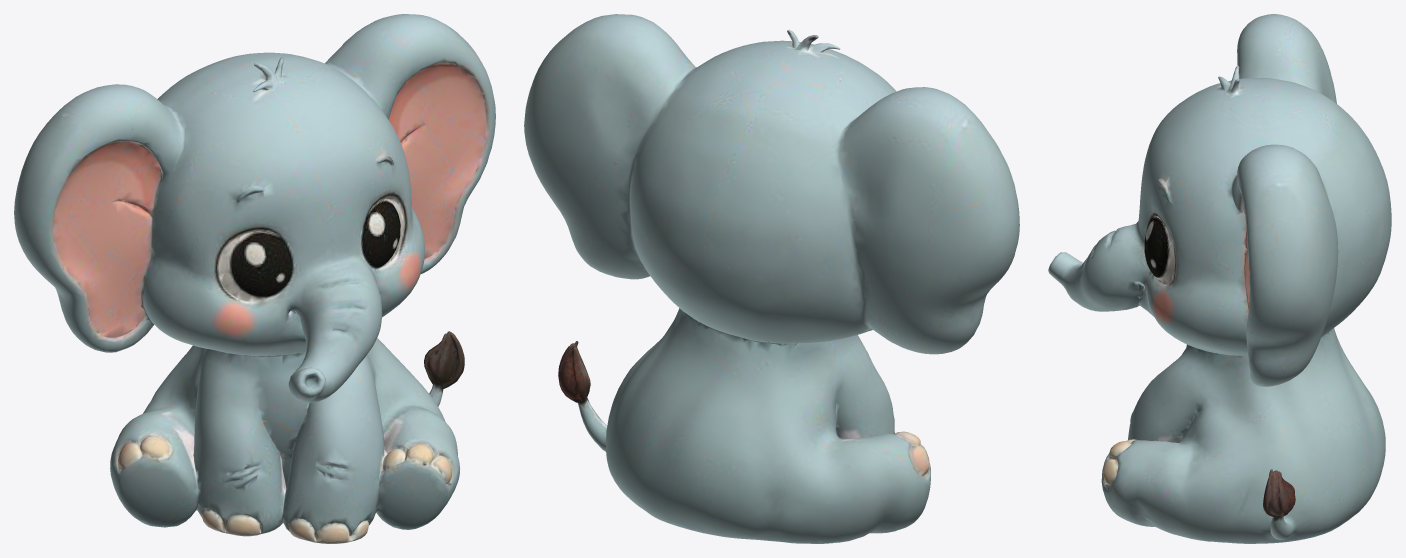
3 renders of one model, left to right at view 1: azimuth 30°, elevation 25°; view 2: azimuth 150°, elevation 25°; view 3: azimuth 270°, elevation 25°, orthographic. The views are drawn at different scales.
Size of the model in its own units: 1.9 by 1.73 by 1.31.
1 material, 1 textured.
